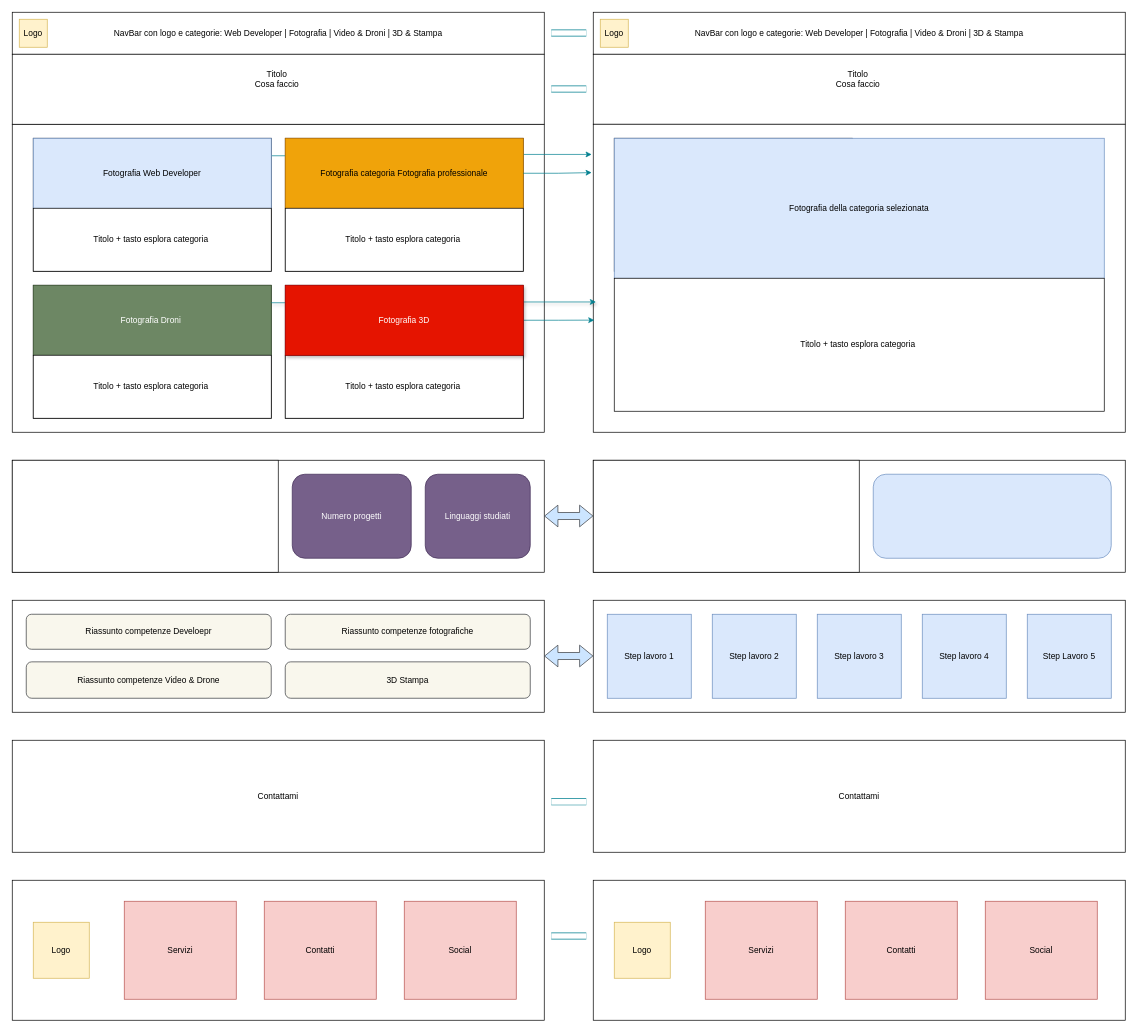
Some shapes in this 1138 by 1033 pixel diagram are drawn without their labels. Each missing label, with the centre of its shape:
Descrizione approfondita con tasto torna in home: (x=726, y=516)
Presentazione personale: (x=145, y=516)
Tutte le conoscenze della categoria selezionata: (x=992, y=516)
